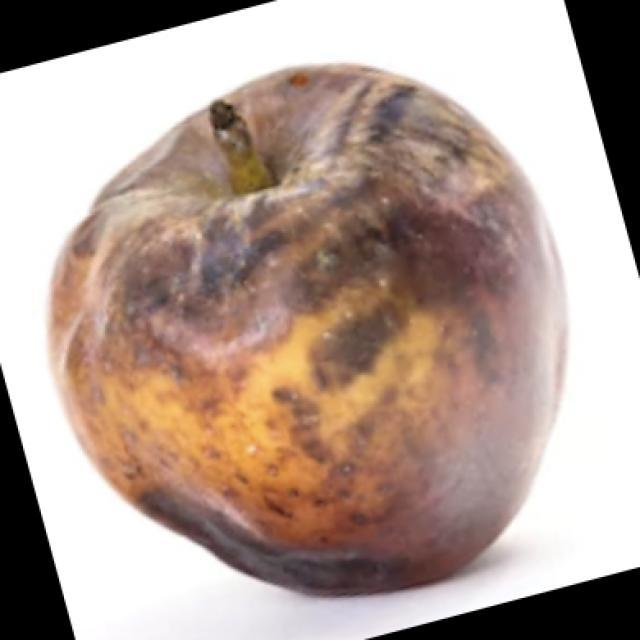Rotten: (47, 59, 566, 596)
